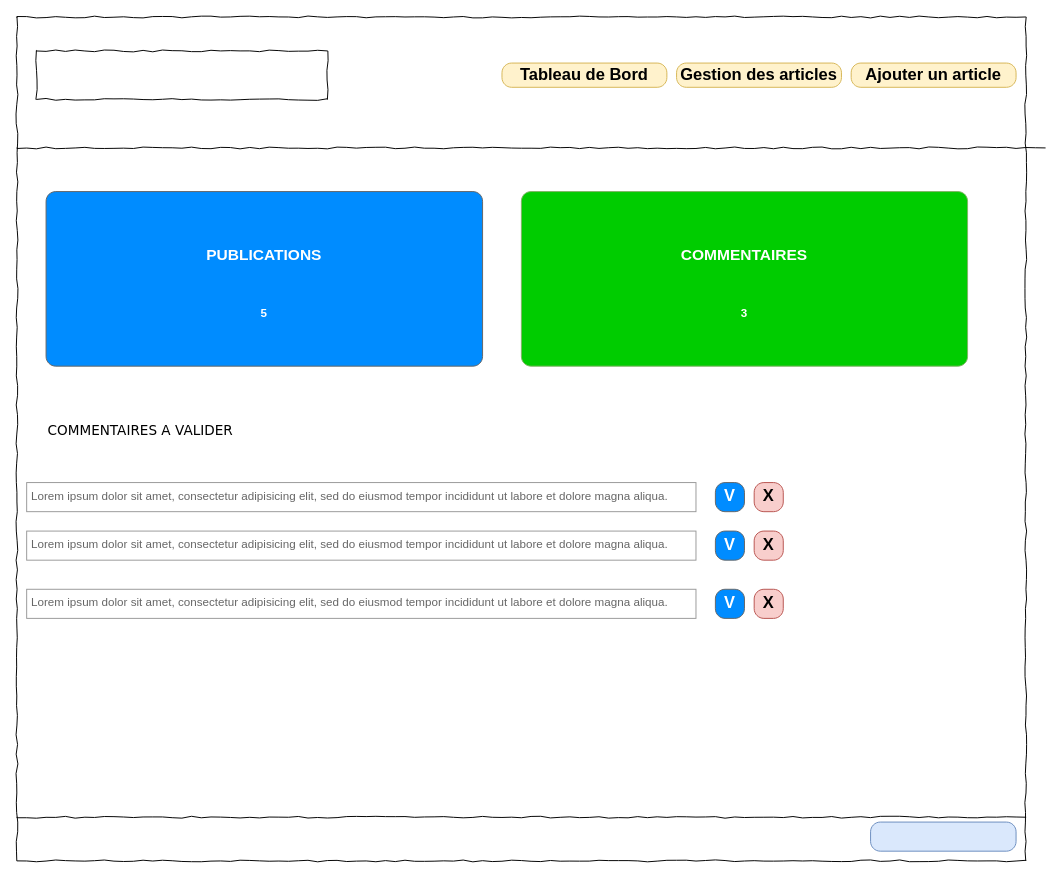
Image size: 1062x878. Some labels were removed from this diagram. Each missing label, with the centre of its shape:
"ADMINISTRATION" goes at point 181,74.
"DECONNEXION" goes at point 943,836.
